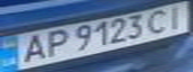1: (90, 19, 112, 48)
2: (106, 16, 130, 44)
3: (124, 12, 151, 41)
9: (69, 23, 97, 53)
A: (15, 33, 51, 64)
C: (142, 8, 175, 35)
I: (160, 3, 190, 30)
P: (39, 27, 72, 60)
